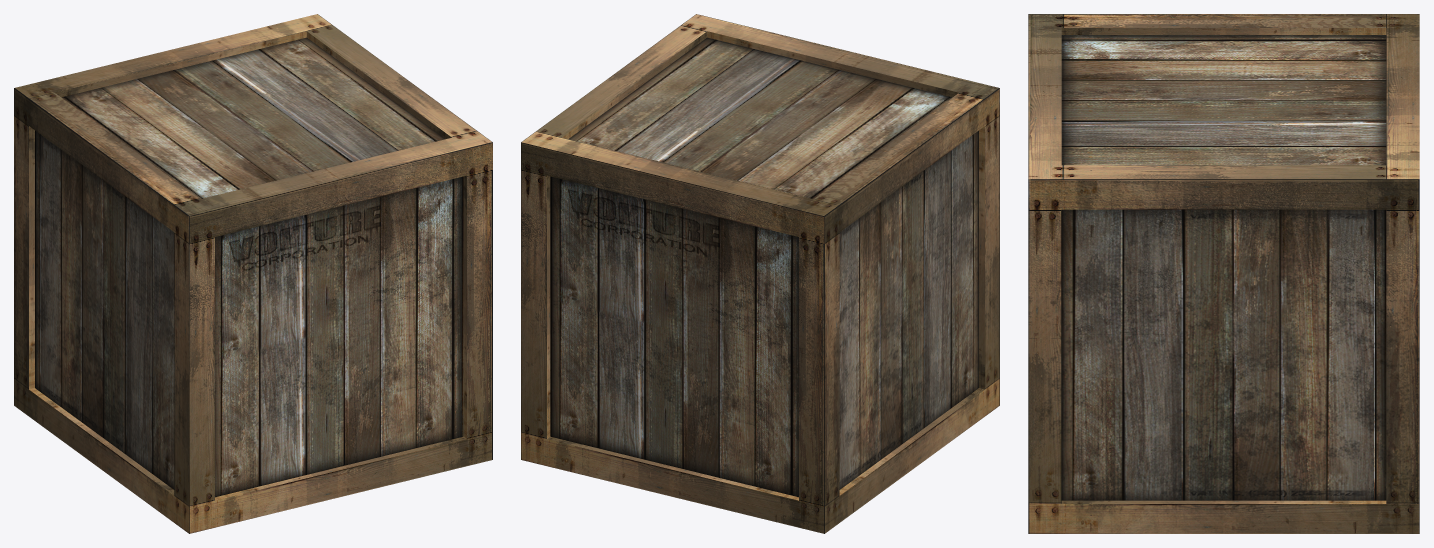
Rendered from WoodContainer.dae.
3 views of the same model, side by side, from view 1: azimuth 30°, elevation 25°; view 2: azimuth 150°, elevation 25°; view 3: azimuth 270°, elevation 25° (orthographic). The views are drawn at different scales.
Parts seen in each view (by area): view 1: Wood_container1; view 2: Wood_container1; view 3: Wood_container1.
Boxes of the visible parts, bbox=[...] form: Wood_container1: bbox=[14, 14, 492, 533]; Wood_container1: bbox=[521, 14, 999, 533]; Wood_container1: bbox=[1028, 14, 1419, 533].
Bounding box in the file's own units: 200 × 200 × 200.
1 material, 1 textured.
